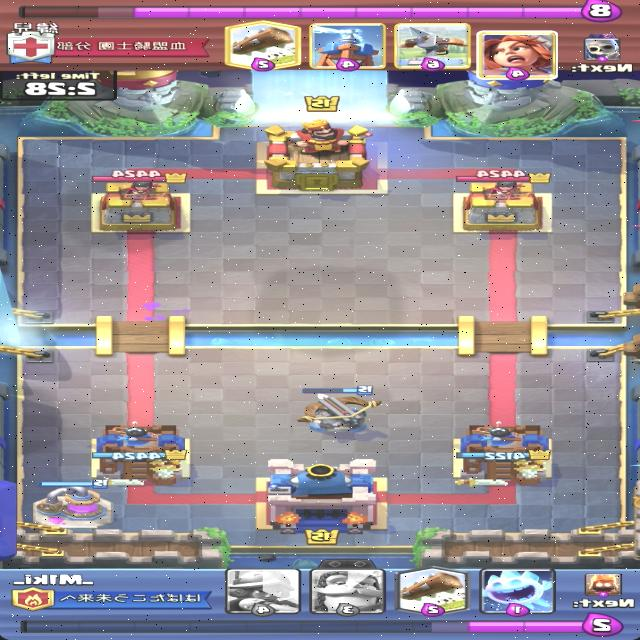Player-ElixirPump: (30, 478, 115, 530)
Player-XBow: (295, 386, 382, 432)
